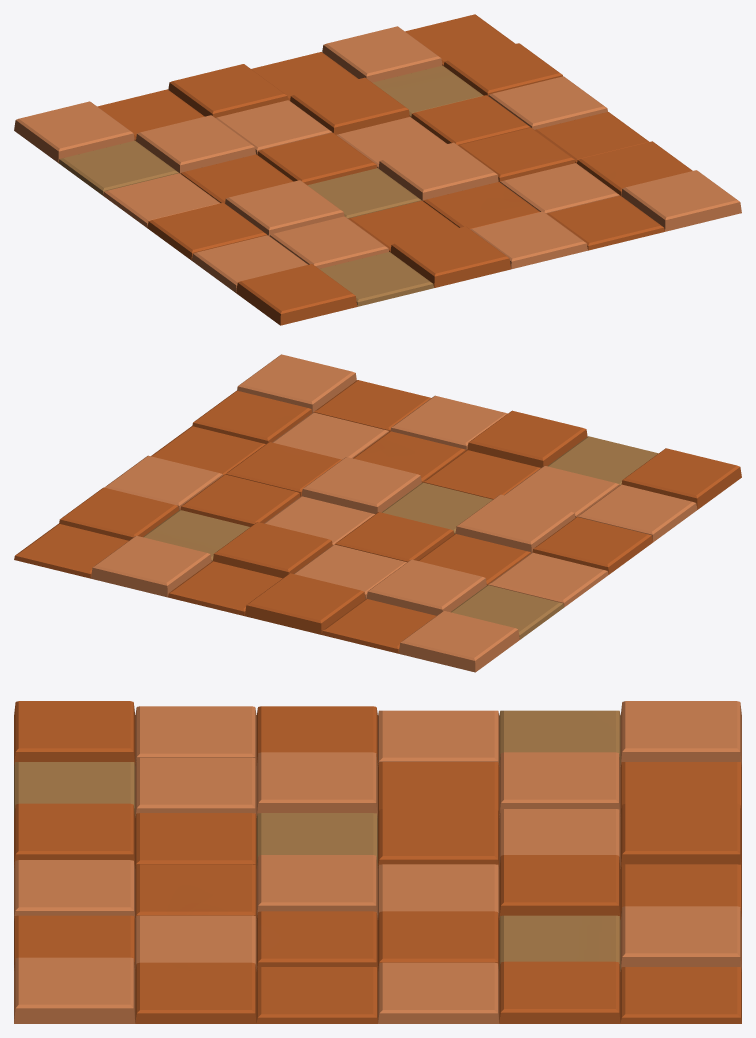
File: Floor Asset Fix.fbx
The picture shows the model from 3 angles, top to bottom: view 1: azimuth 30°, elevation 25°; view 2: azimuth 150°, elevation 25°; view 3: azimuth 270°, elevation 25°; orthographic projection. The views are drawn at different scales.
Parts seen in each view (by area): view 1: Floor Asset.001; view 2: Floor Asset.001; view 3: Floor Asset.001.
Boxes of the visible parts, bbox=[...] form: Floor Asset.001: bbox=[14, 14, 741, 325]; Floor Asset.001: bbox=[14, 354, 741, 672]; Floor Asset.001: bbox=[14, 701, 741, 1023].
Size of the model in its own units: 500 by 12.97 by 500.
